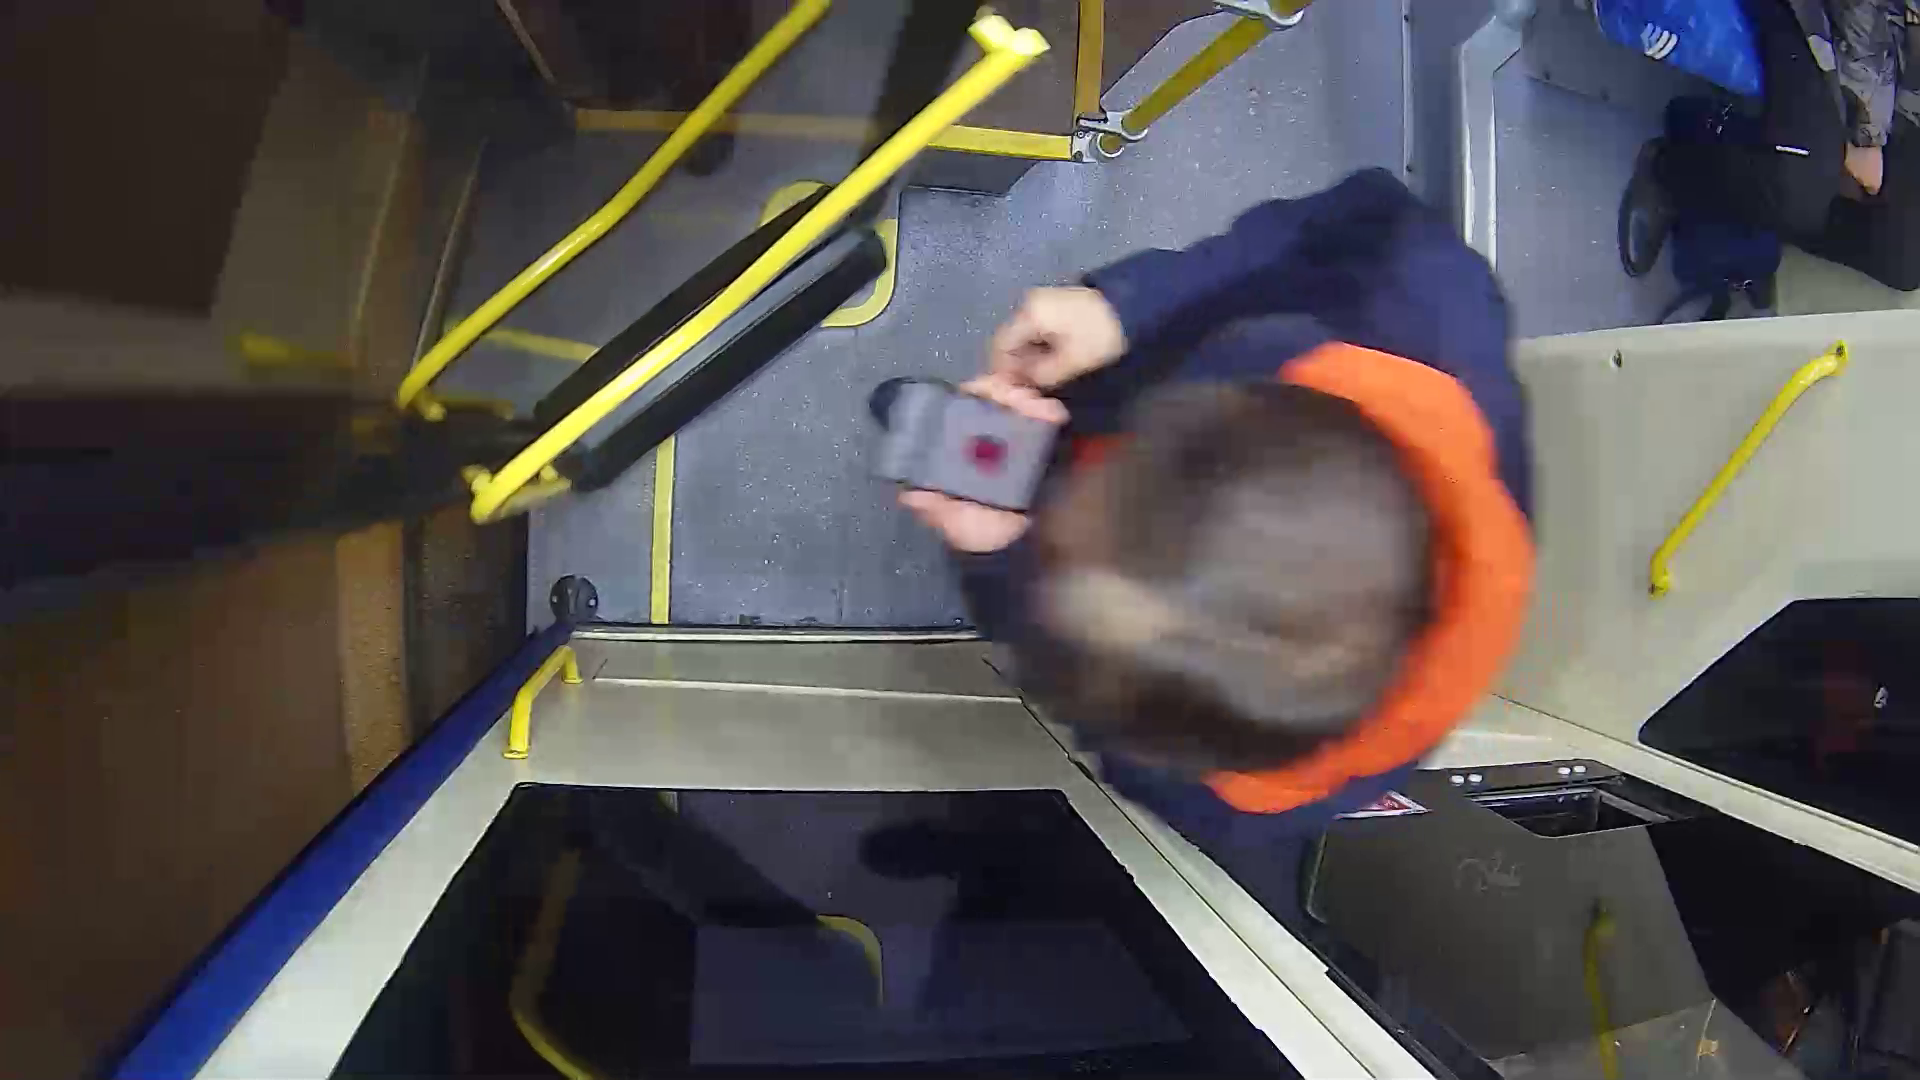person: (850, 201, 1565, 849)
